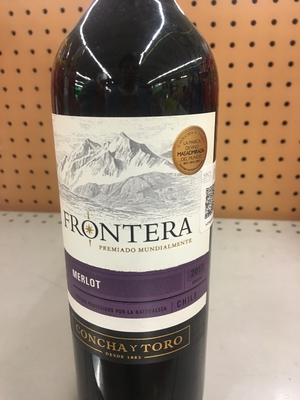frontera merlot: (39, 6, 223, 399)
